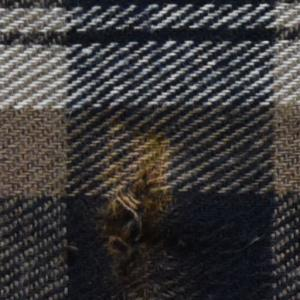Damage: (82, 108, 186, 300)
Oil Stain: (107, 114, 179, 220)
